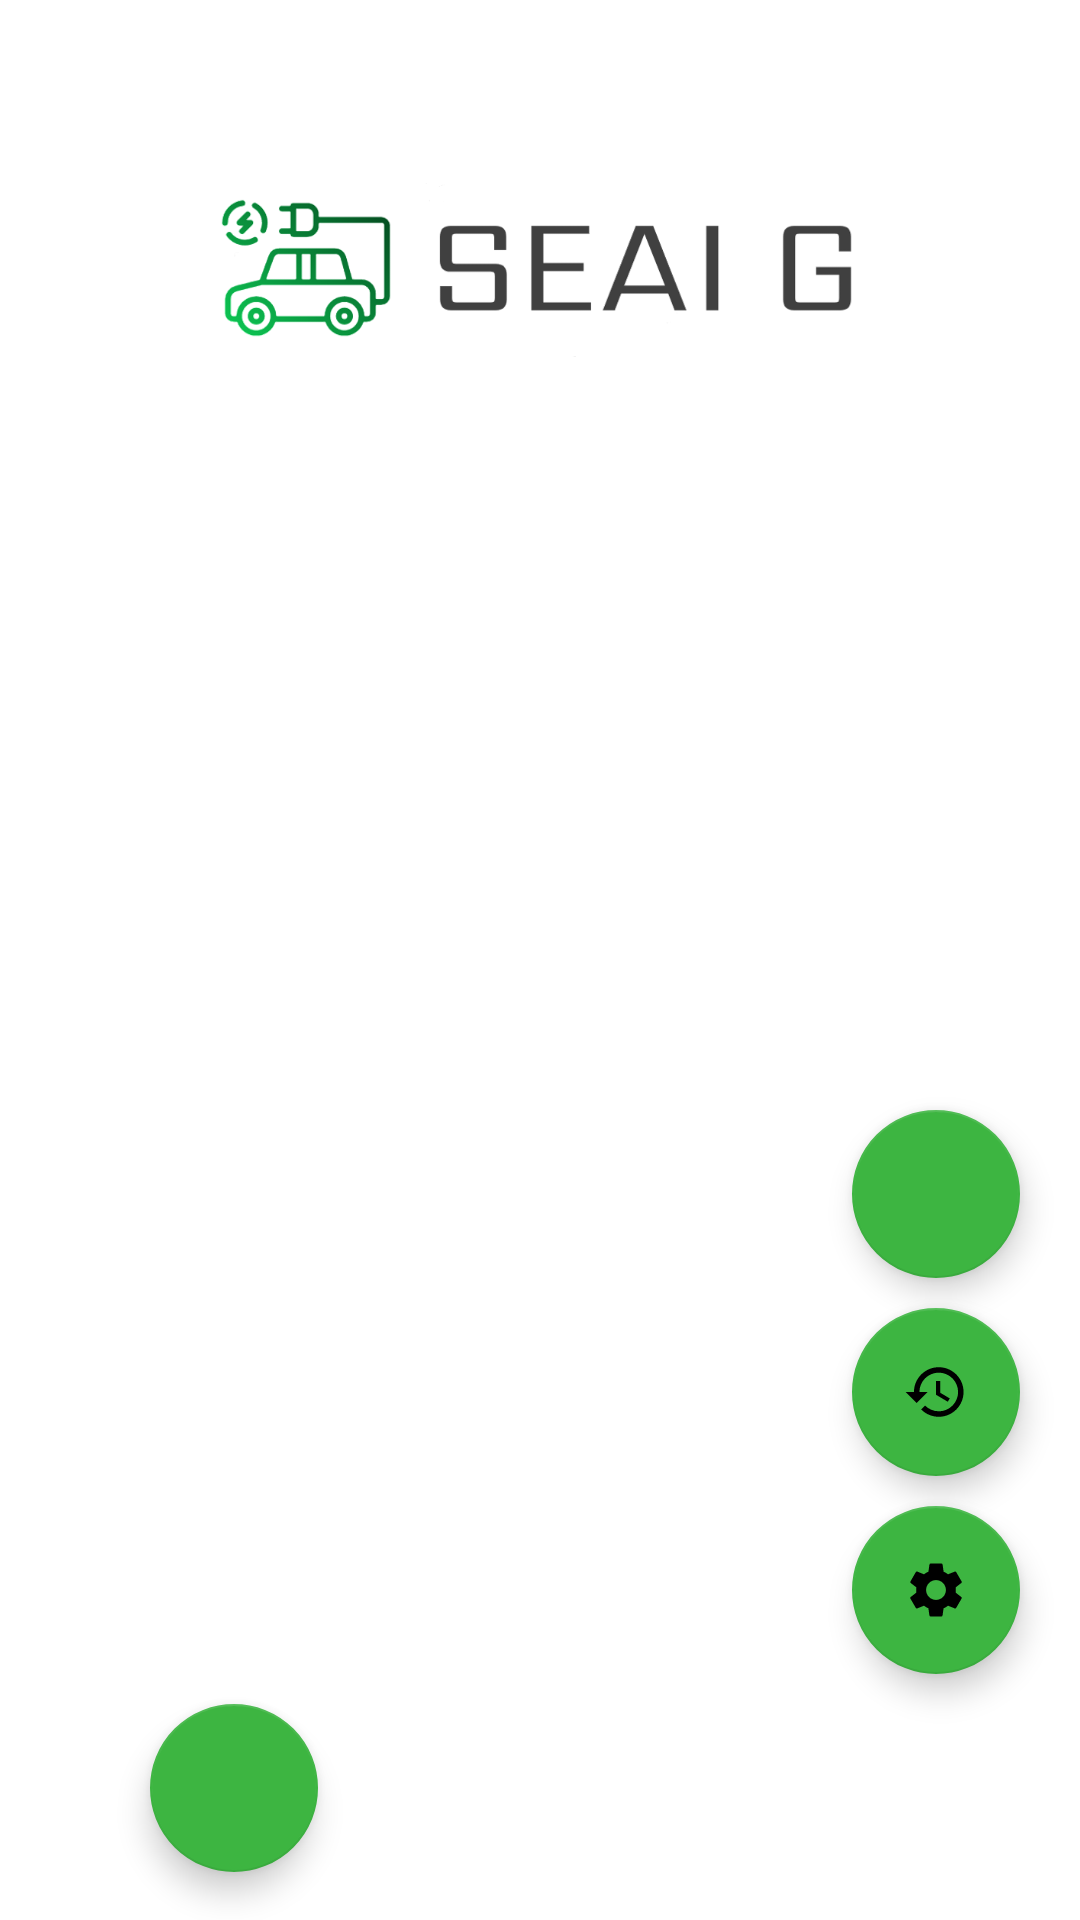

Screen size 1080×1920. Icon name, then its center in pixels as (x,y):
historic: (936,1392)
Settings Button: (936,1590)
